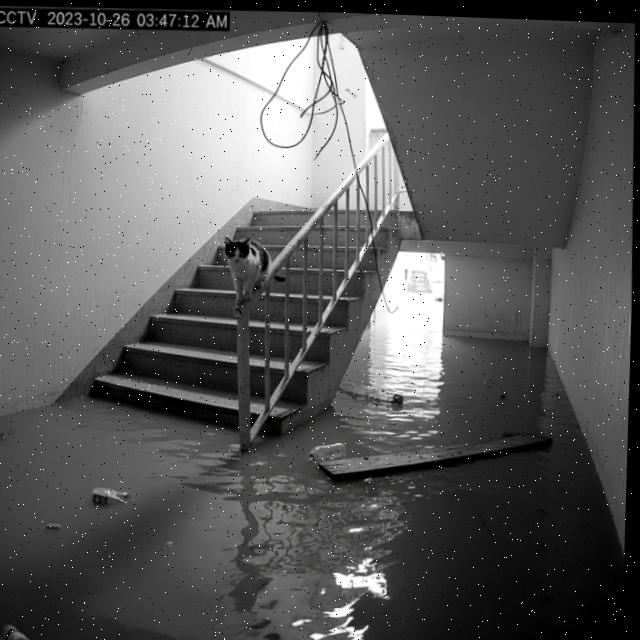cat: (214, 230, 290, 306)
